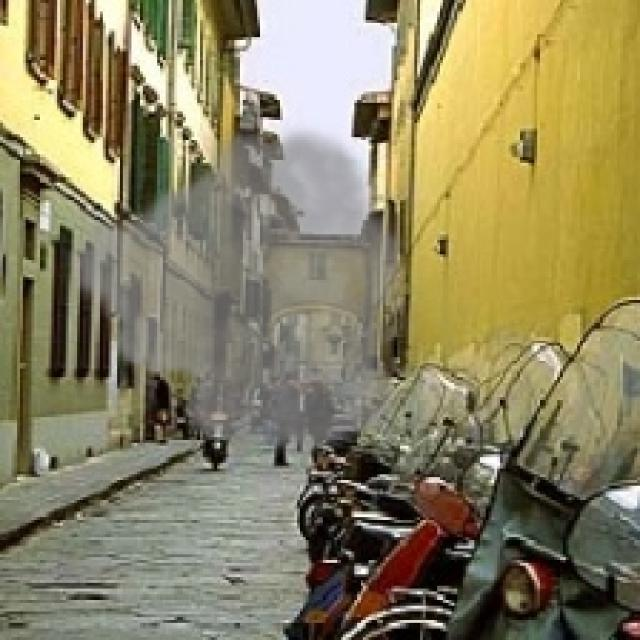Smoke: (60, 117, 409, 460)
